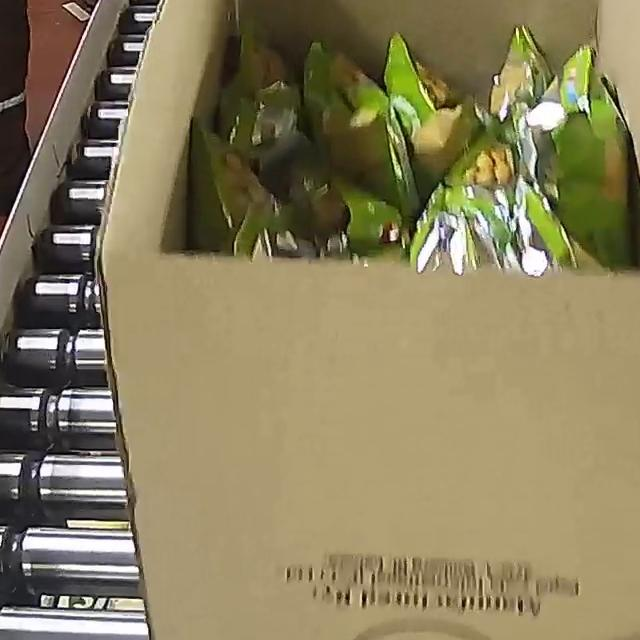yogurt: (205, 0, 640, 282)
